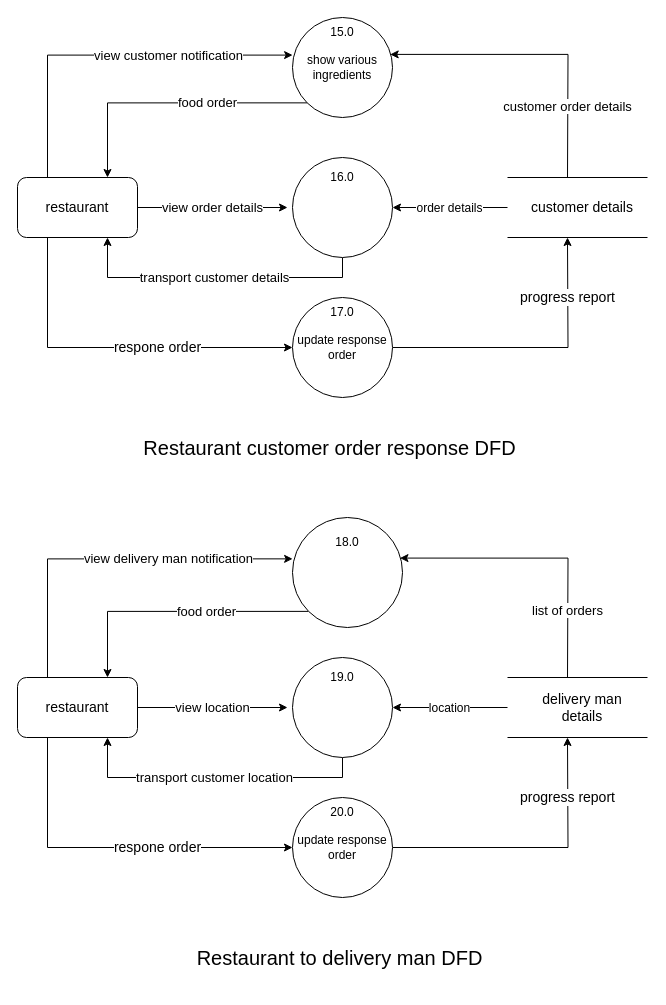
Some shapes in this 666 by 1005 pixel diagram are drawn without their labels. Here are the shapes that lost their labels. From the top down, the box of each, then its label:
(292, 156, 392, 258): show price and receipt
(292, 516, 402, 628): show list of orders
(292, 656, 392, 758): show location of customer
